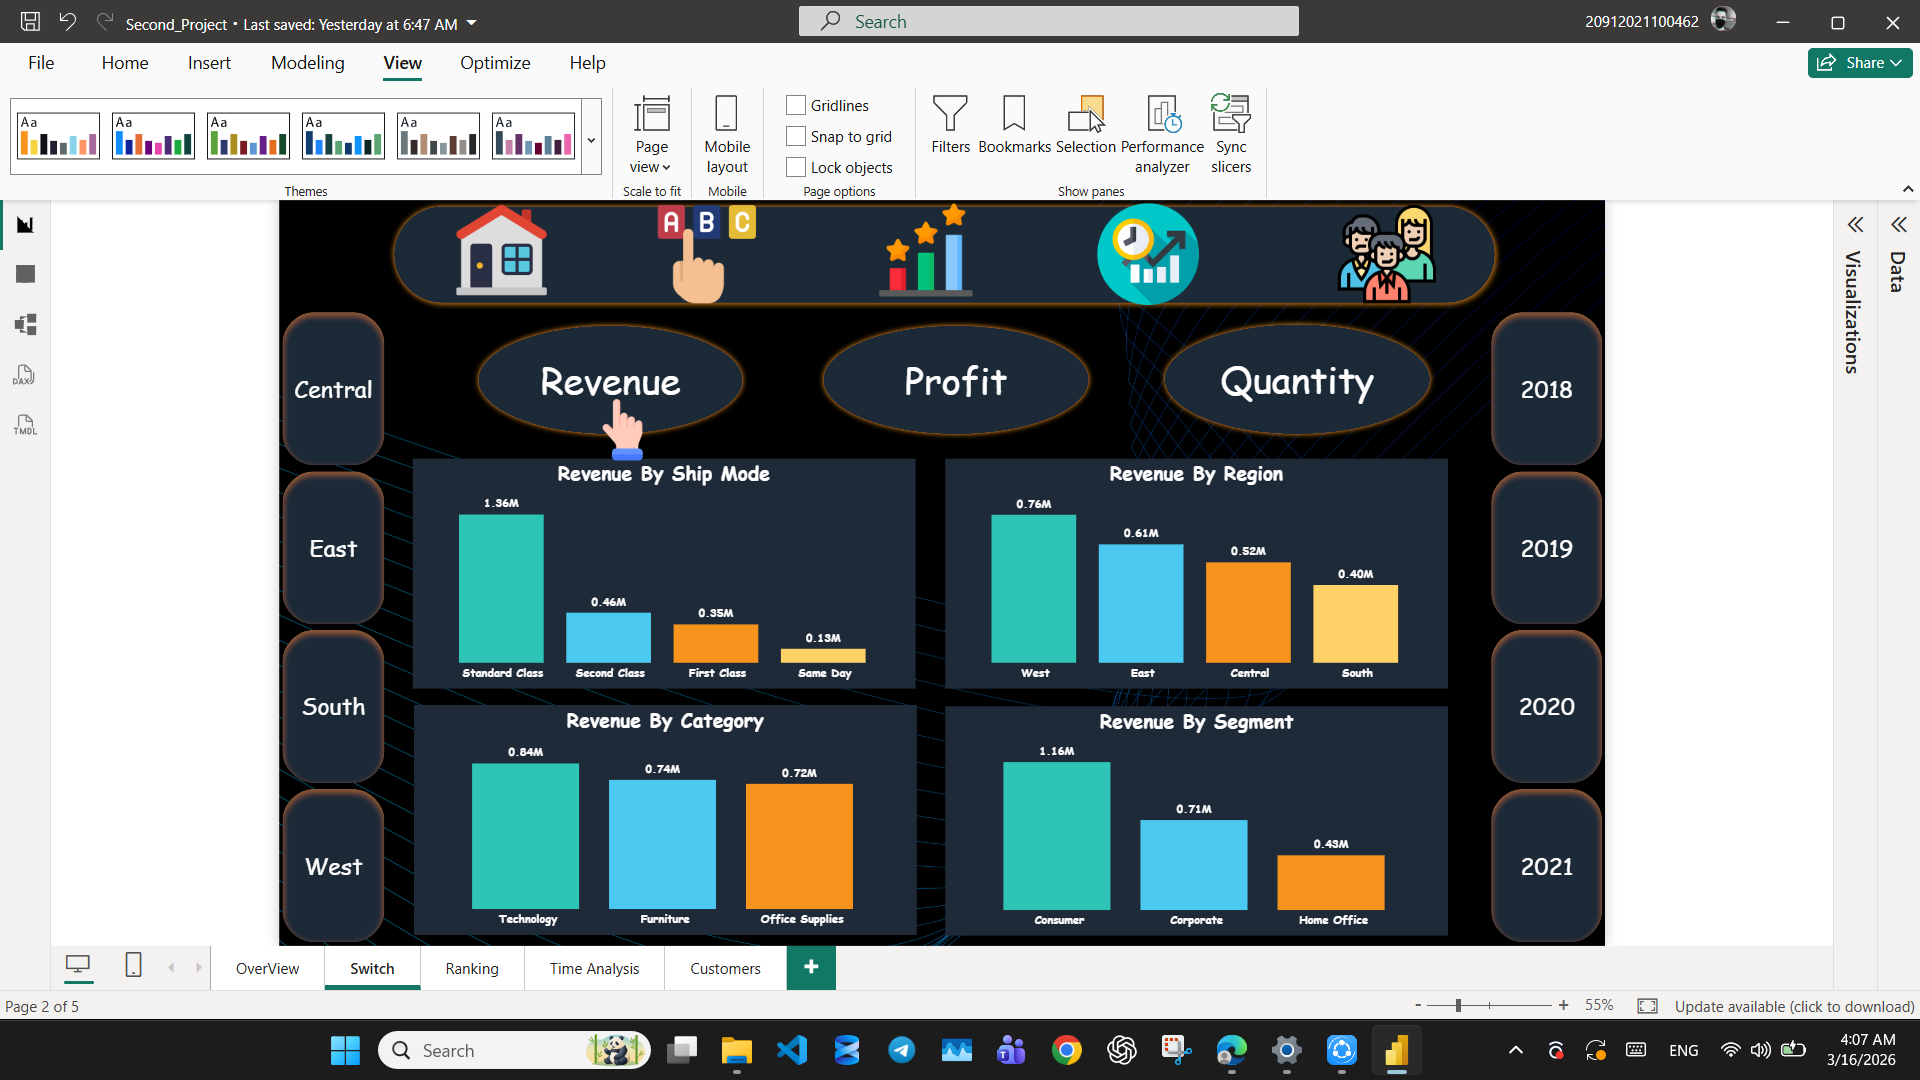

What the dashboard file says about the page in this screenshot:
{"tool":"powerbi","page":{"name":"Switch","canvas":[1920,1080],"ordinal":1},"visuals":[{"type":"shape","box":[158,0,1762,158],"z":0},{"type":"actionButton","title":"Button_qty","box":[1416,174,402,174],"z":2000},{"type":"actionButton","title":"Button_profit","box":[840,176,400,172],"z":3000},{"type":"actionButton","title":"Button_rev","box":[280.7,173.4,398.7,173.4],"z":4000},{"type":"clusteredColumnChart","title":"Qty By Ship Mode","fields":{"Category":["Dim_Order.Ship Mode"],"Y":["Dax.Total_Quantity"]},"box":[194,374,822,332],"z":9000},{"type":"clusteredColumnChart","title":"Qty By Region","fields":{"Category":["Dim_Customer.Region"],"Y":["Dax.Total_Quantity"]},"box":[1038,374,852,332],"z":11000},{"type":"clusteredColumnChart","title":"Qty By Category","fields":{"Category":["Dim_Product.Category"],"Y":["Dax.Total_Quantity"]},"box":[196,734,820,332],"z":13000},{"type":"clusteredColumnChart","title":"Qty By Segment","fields":{"Category":["Dim_Order.Segment"],"Y":["Dax.Total_Quantity"]},"box":[1038,748,852,332],"z":15000},{"type":"image","title":"Image_qty","box":[1564,246,120,204],"z":17000},{"type":"image","box":[230.7,0,184.2,144.8],"z":19000},{"type":"image","box":[606,2,158,158],"z":20000},{"type":"image","box":[1704,0,156,158],"z":21000},{"type":"image","box":[960,2,158,144],"z":22000},{"type":"image","box":[1310,2,158,158],"z":23000},{"type":"advancedSlicerVisual","fields":{"Values":["Dim_Customer.Region"]},"box":[0,160,158.3,406.7],"z":24000},{"type":"advancedSlicerVisual","fields":{"Values":["Calendar_Table.Year"]},"box":[0,585.7,158.6,494.3],"z":25000}]}

Visuals, with their boxes on the page's 1920x1080 design canvas (x1, y1, x2, y2). These are canvas units, not pixel positions in the 1920x1080 screenshot, which may show the page scaled, cropped or inside an application window:
shape: [158, 0, 1920, 158]
"Button_qty" actionButton: [1416, 174, 1818, 348]
"Button_profit" actionButton: [840, 176, 1240, 348]
"Button_rev" actionButton: [281, 173, 679, 347]
"Qty By Ship Mode" clusteredColumnChart: [194, 374, 1016, 706]
"Qty By Region" clusteredColumnChart: [1038, 374, 1890, 706]
"Qty By Category" clusteredColumnChart: [196, 734, 1016, 1066]
"Qty By Segment" clusteredColumnChart: [1038, 748, 1890, 1080]
"Image_qty" image: [1564, 246, 1684, 450]
image: [231, 0, 415, 145]
image: [606, 2, 764, 160]
image: [1704, 0, 1860, 158]
image: [960, 2, 1118, 146]
image: [1310, 2, 1468, 160]
advancedSlicerVisual - Dim_Customer.Region: [0, 160, 158, 567]
advancedSlicerVisual - Calendar_Table.Year: [0, 586, 159, 1080]
